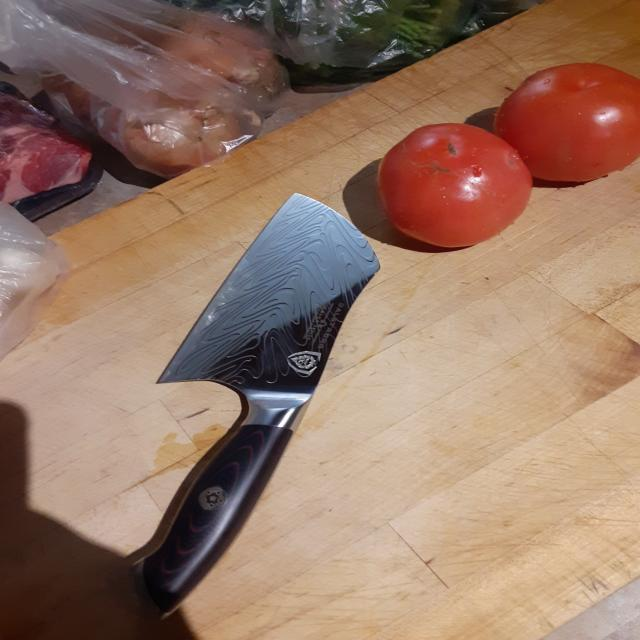cleaver: (103, 195, 383, 625)
